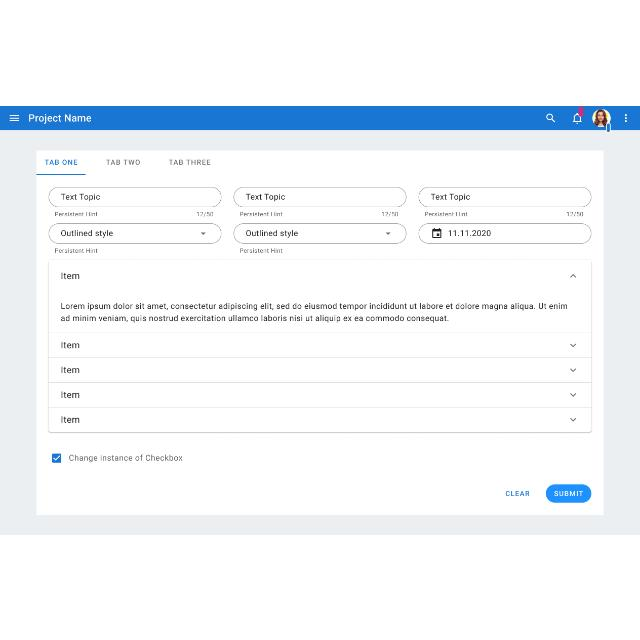QLabel: (58, 301, 570, 323), (69, 452, 183, 462), (26, 112, 92, 122), (166, 158, 212, 166), (104, 157, 140, 165), (44, 158, 78, 166), (60, 270, 80, 280), (552, 489, 584, 495), (504, 489, 530, 496), (60, 389, 80, 398), (60, 340, 80, 348), (60, 365, 80, 373), (60, 415, 80, 423)
VAppBar: (0, 106, 640, 130)
VBadge: (592, 109, 612, 128), (572, 106, 584, 122)
VBtn: (546, 483, 592, 502)
VCheckbox: (49, 452, 63, 464)
VCombobox: (48, 221, 222, 253), (234, 221, 406, 253)
VExpansionPanel: (51, 262, 589, 328), (51, 334, 589, 354), (51, 359, 588, 378), (50, 385, 588, 403), (51, 410, 589, 428)
VIcon: (546, 112, 556, 121), (10, 114, 20, 120), (624, 114, 628, 122)
VInlineDatepicker: (418, 222, 592, 244)
VTabs: (35, 148, 605, 516)
VTextField: (418, 185, 592, 217), (234, 185, 406, 217), (48, 186, 222, 217)
